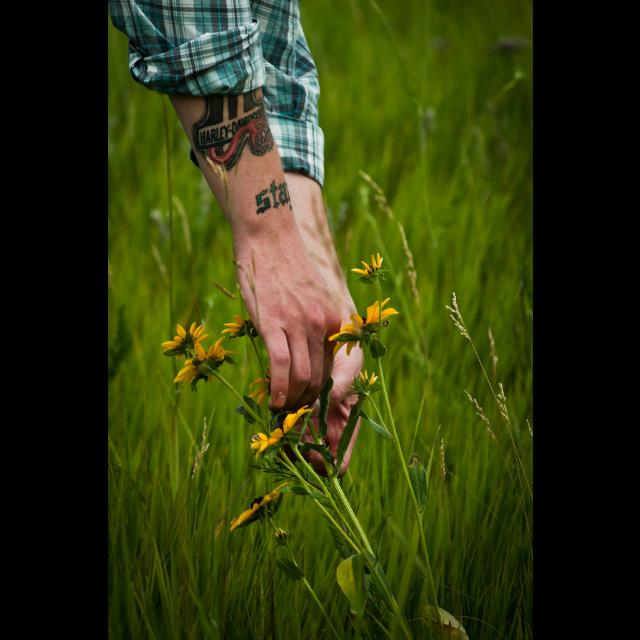Flower: (324, 296, 396, 354), (232, 480, 292, 532), (160, 321, 210, 359), (174, 343, 214, 387), (252, 420, 290, 460), (353, 252, 387, 282), (250, 368, 276, 406), (222, 316, 256, 342), (351, 368, 382, 396), (286, 403, 314, 432), (210, 348, 234, 362)
